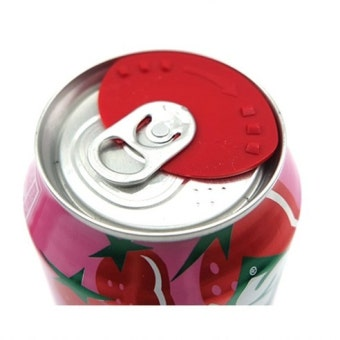paper: (24, 49, 305, 311)
